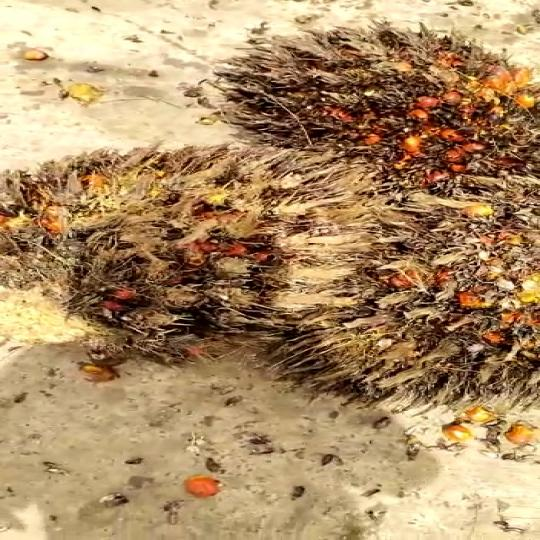terlalu masak: (0, 142, 328, 365), (291, 173, 540, 404), (199, 24, 540, 176)
